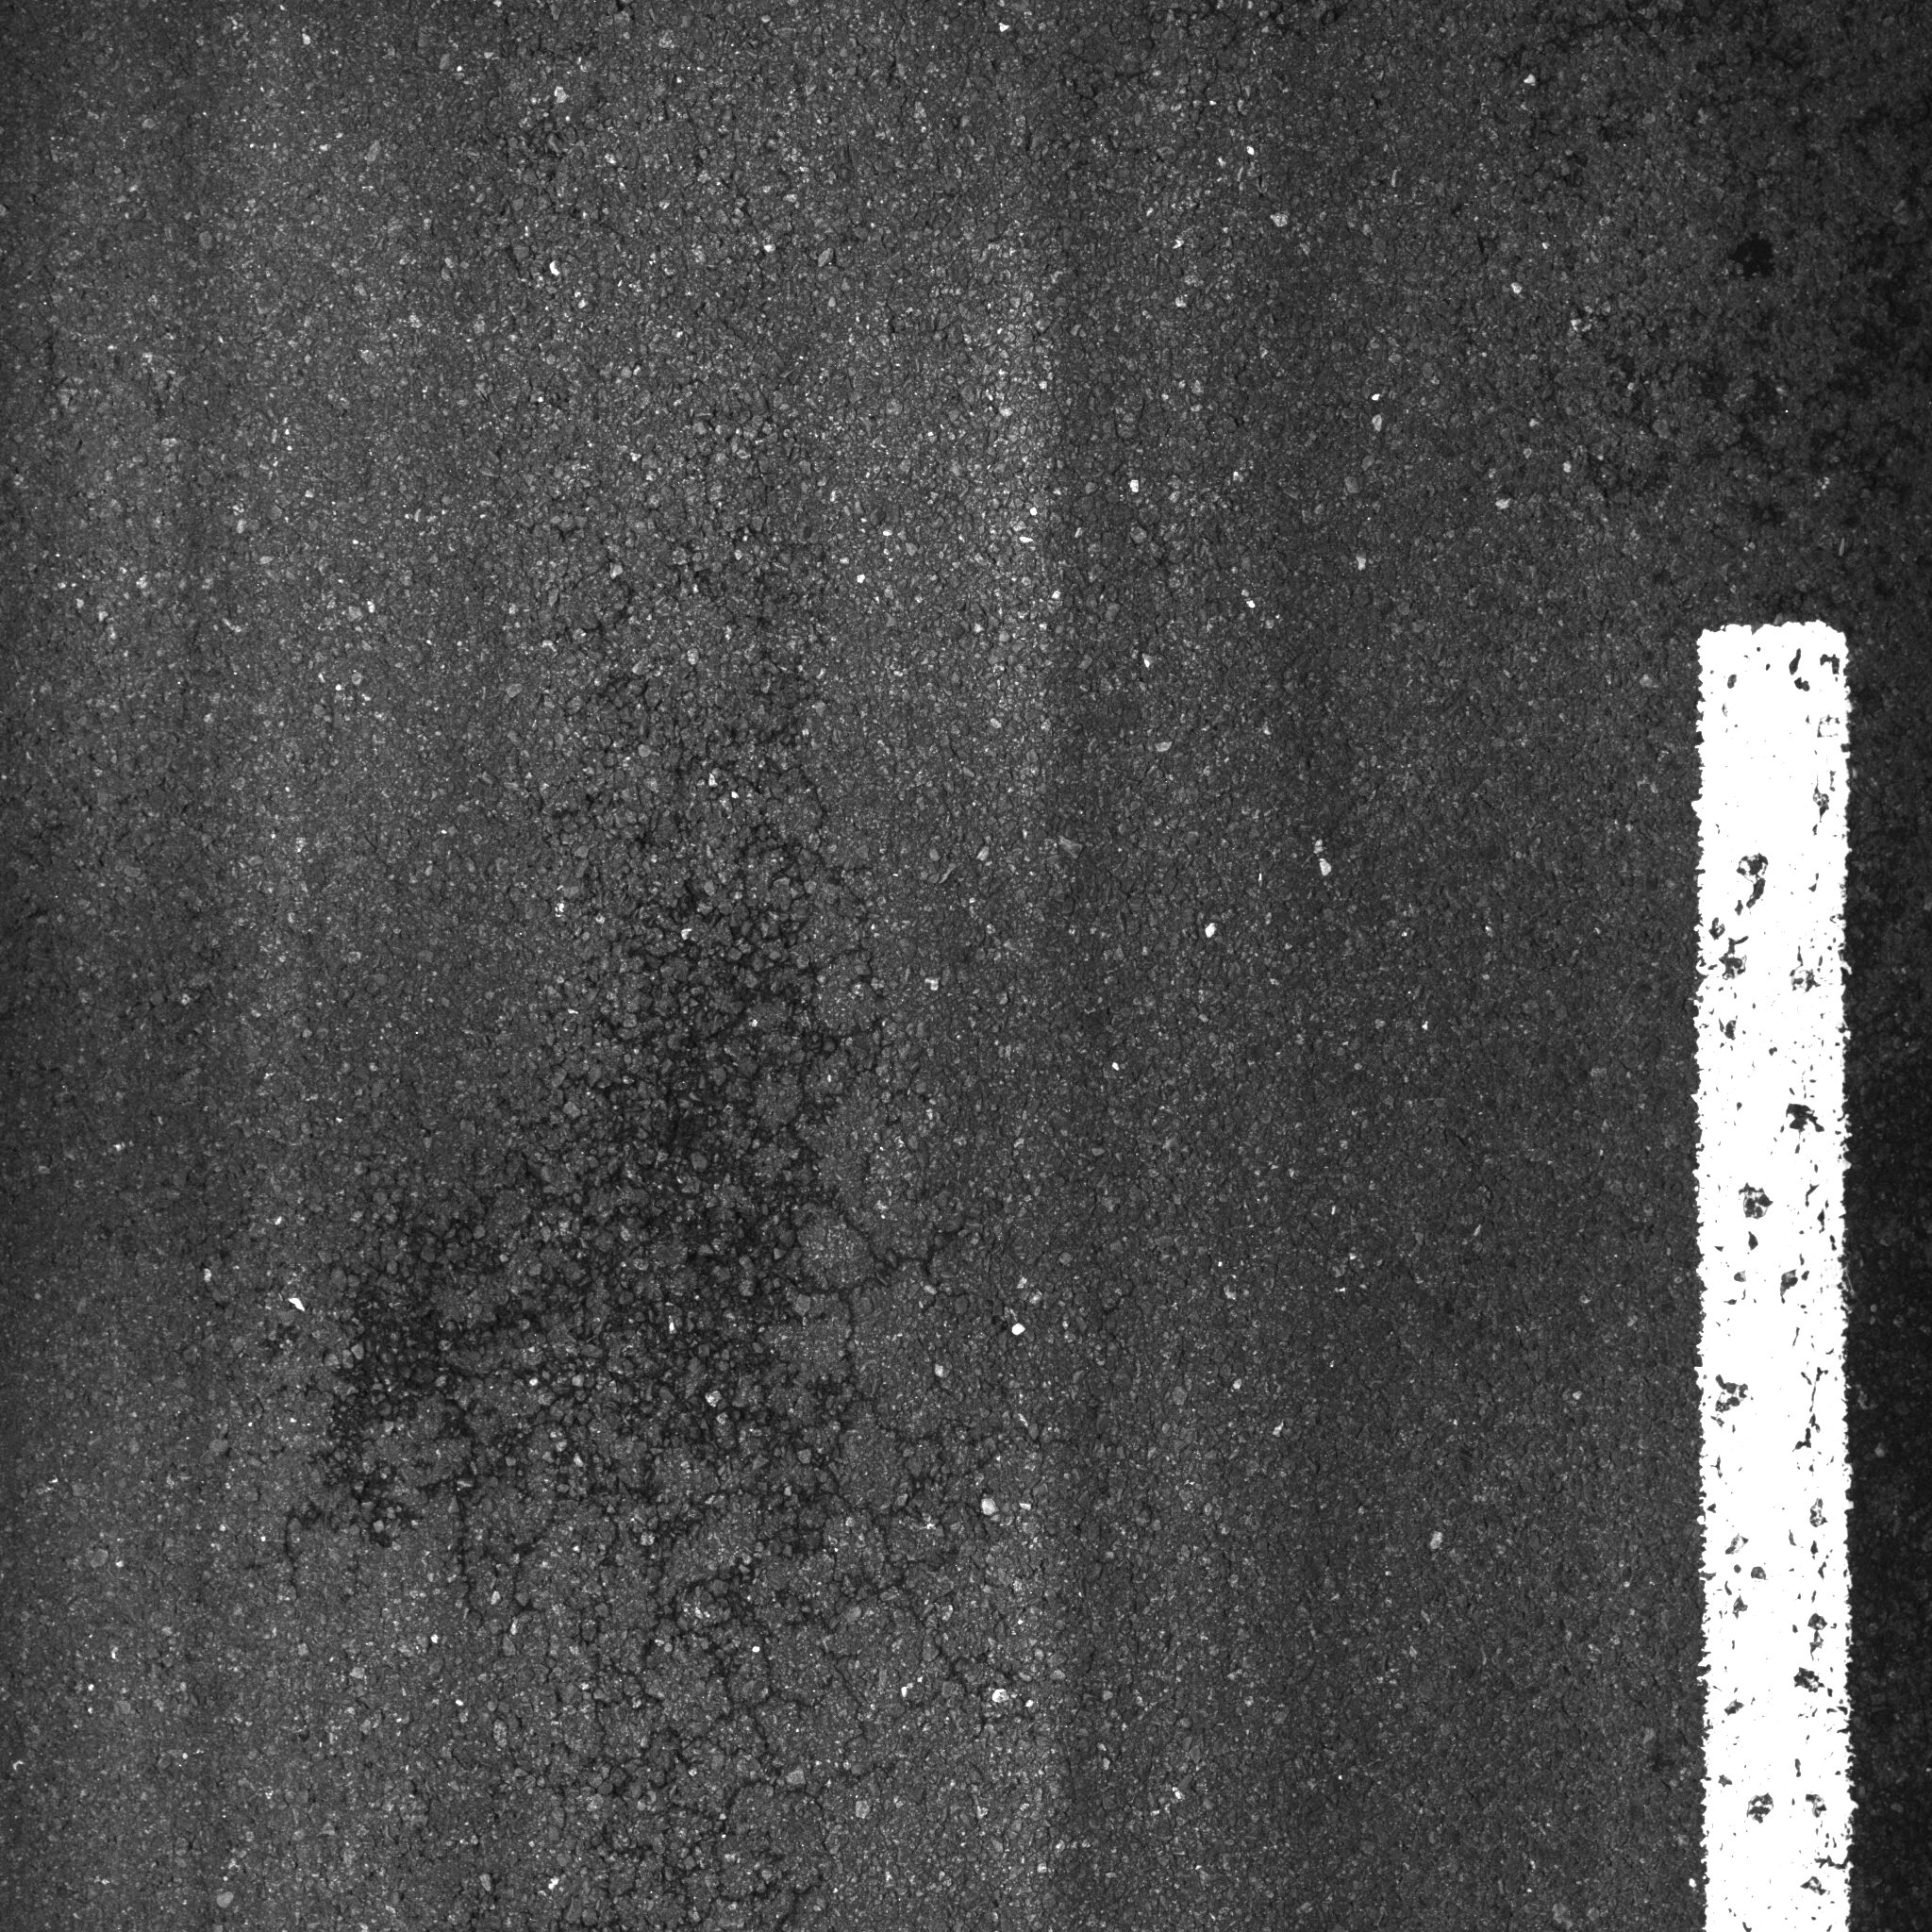alligator: (230, 559, 1120, 1874)
